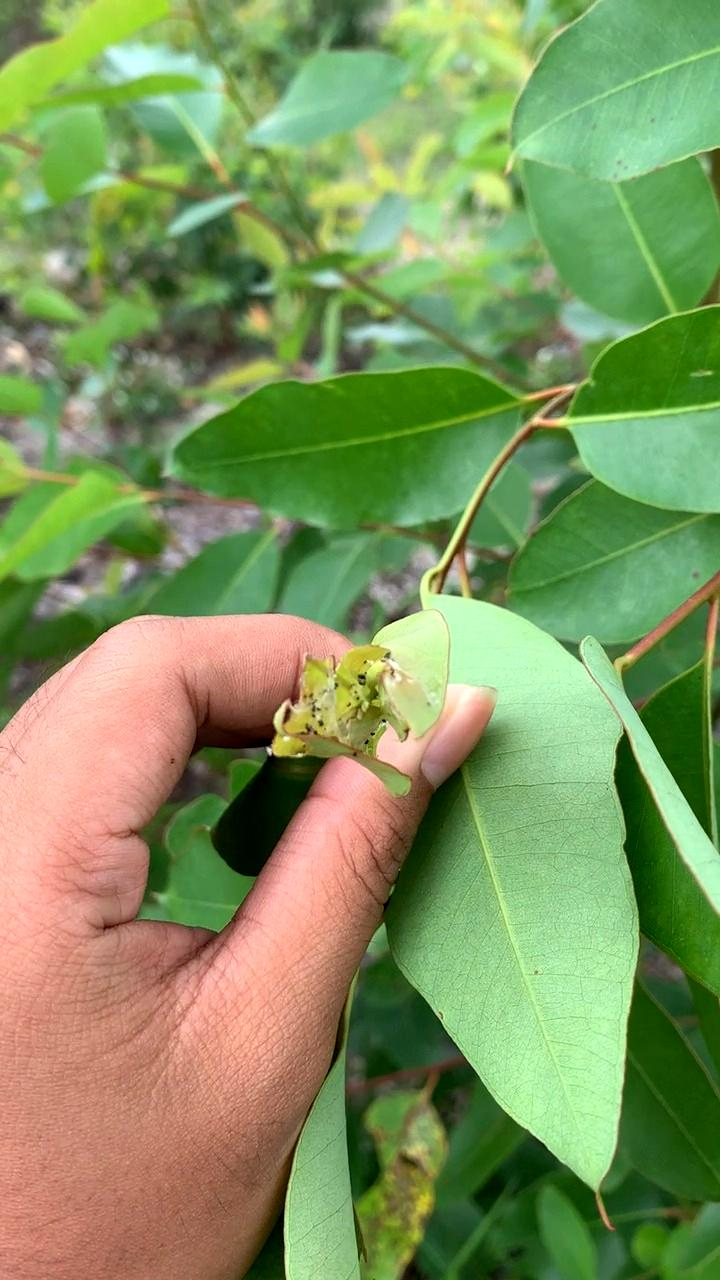Leaf Roller - Leaf: (286, 646, 427, 787)
